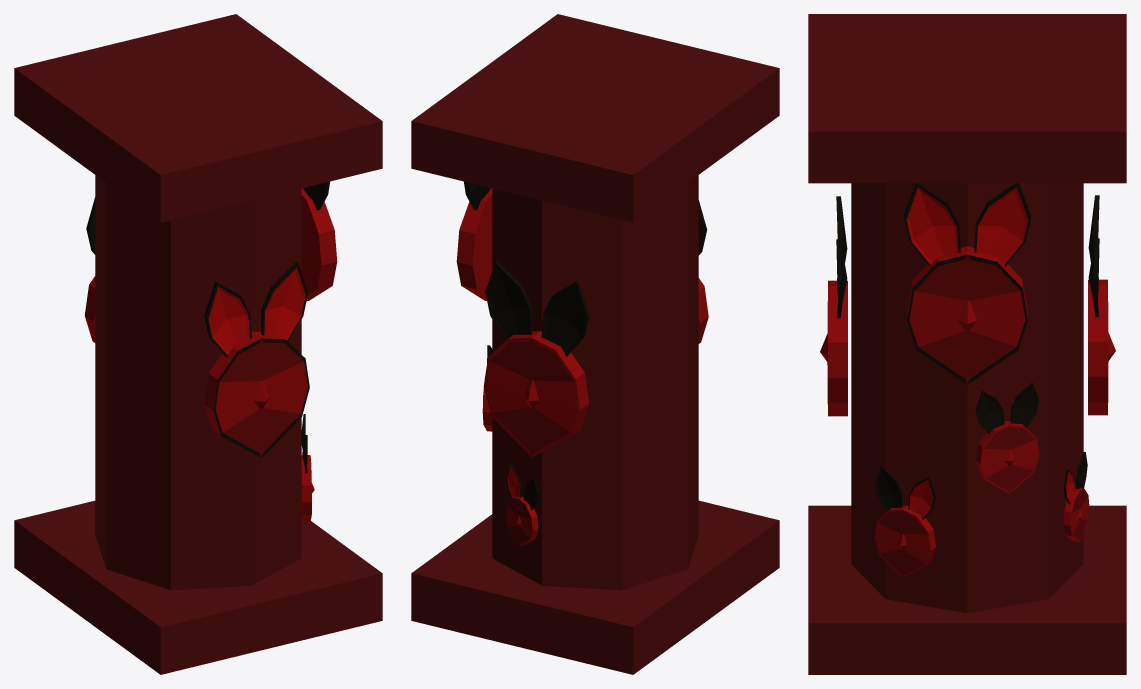
Rendered from PilarMascaras.fbx.
The picture shows the model from 3 angles, left to right: view 1: azimuth 30°, elevation 25°; view 2: azimuth 150°, elevation 25°; view 3: azimuth 270°, elevation 25°; orthographic projection. The views are drawn at different scales.
Visible parts, largest first — view 1: PilarMascaras; view 2: PilarMascaras; view 3: PilarMascaras.
Part boxes in pixels (left/top/right/bottom): PilarMascaras: left=14, top=14, right=382, bottom=674; PilarMascaras: left=411, top=14, right=779, bottom=674; PilarMascaras: left=808, top=14, right=1126, bottom=674.
Bounding box in the file's own units: 116 × 242 × 129.
